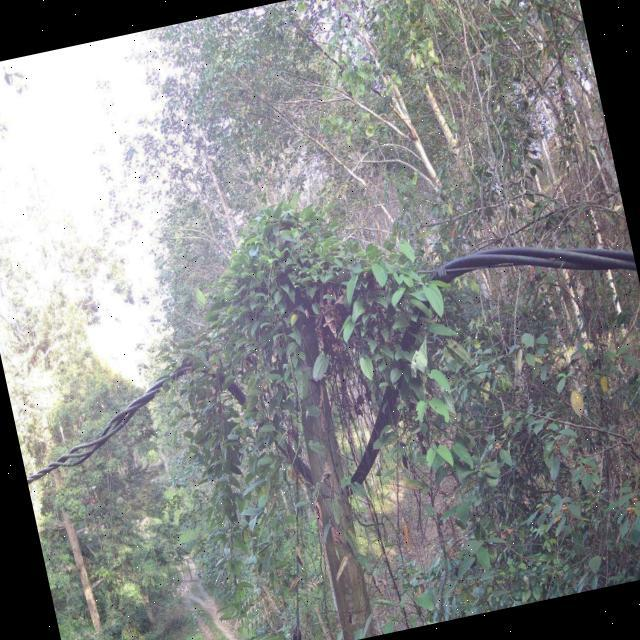critical vegetation: (169, 162, 484, 536)
